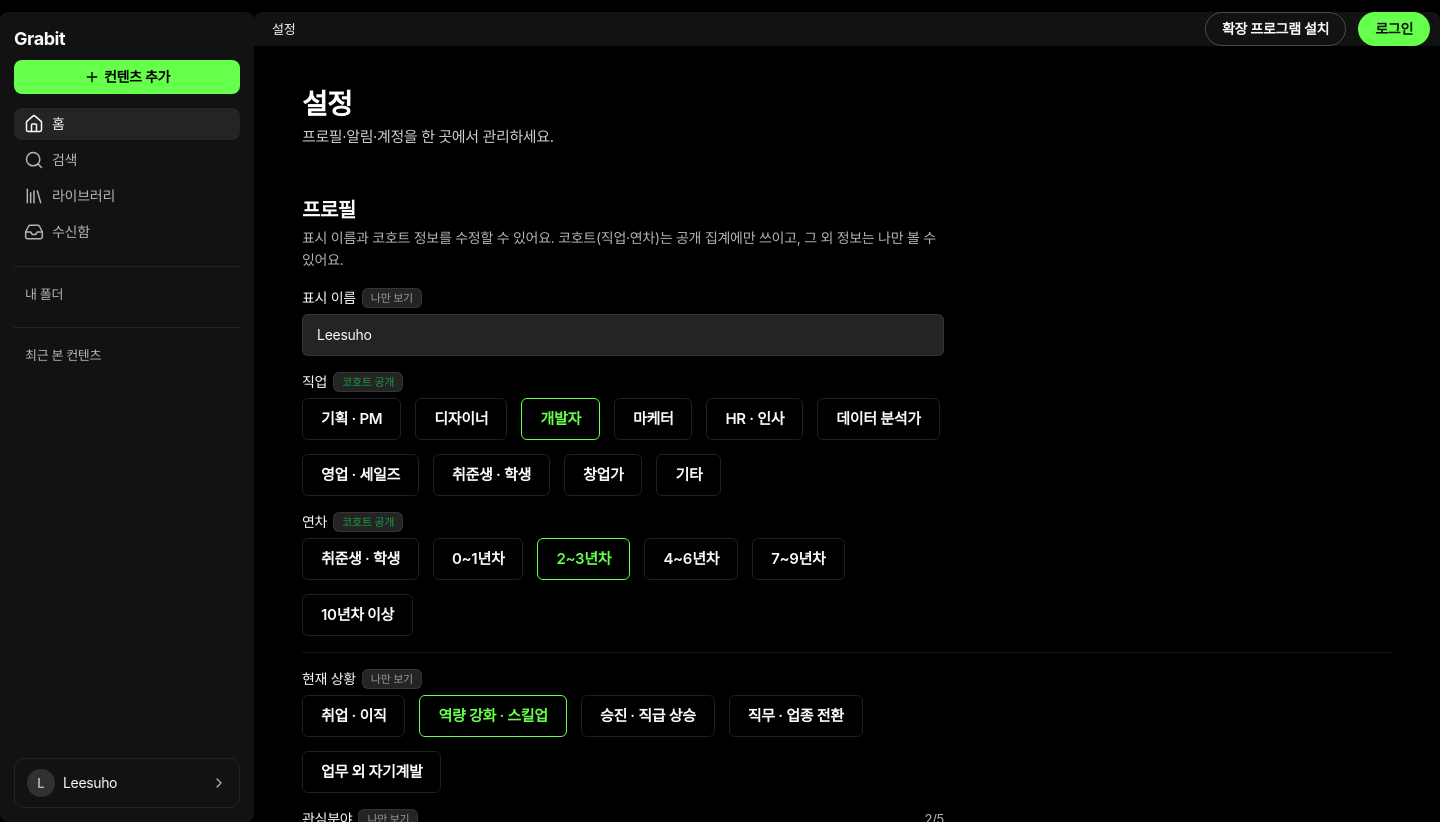
Test: settings contract › 계정 메뉴 오픈: 프로필 카드 클릭 → 팝오버 4항목
Check: the heading "설정" is shown, box [302,87,352,121]
Click the button "L Leesuho" at (127, 783), box [14,758,240,808]
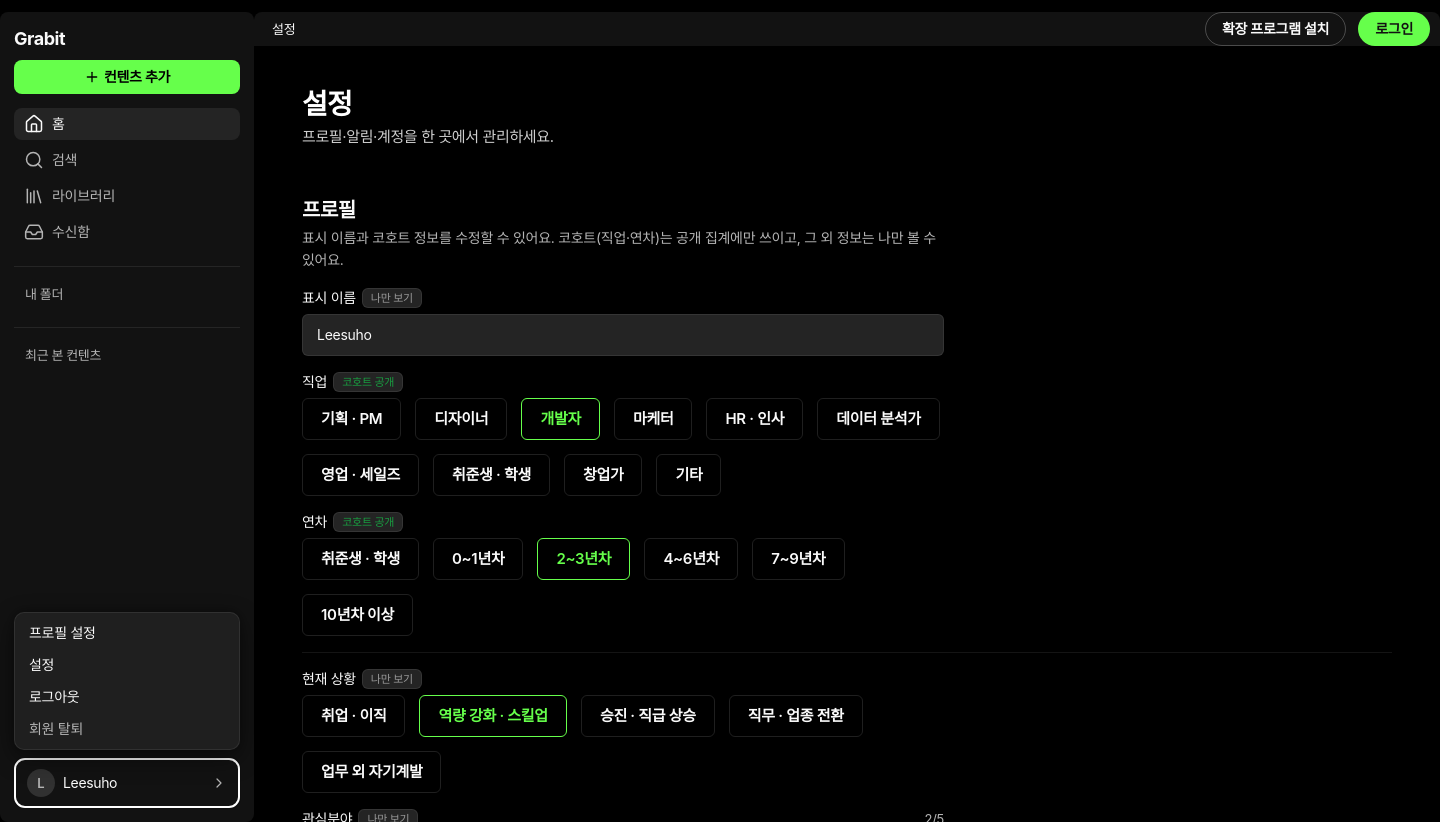
Check: the menu item "프로필 설정" is shown, box [19,617,235,649]
Check: the menu item "설정" is shown, box [19,649,235,681]
Check: the menu item "로그아웃" is shown, box [19,681,235,713]
